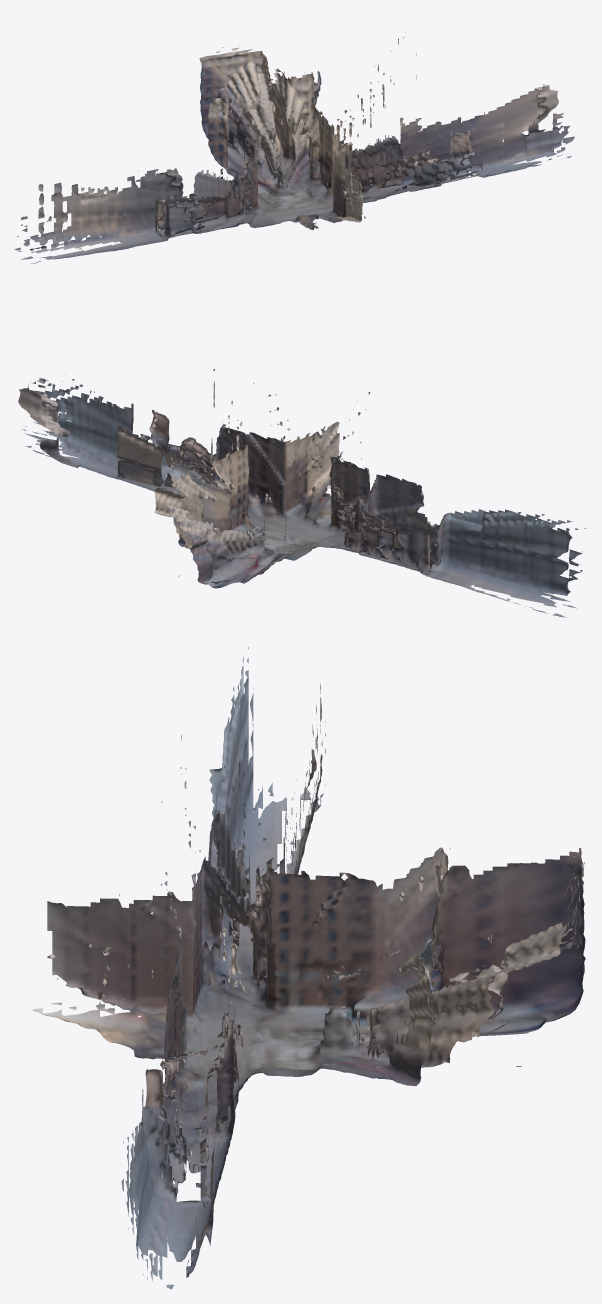
File: urbanmap2.glb
3 views of the same model, one above another, from view 1: azimuth 30°, elevation 25°; view 2: azimuth 150°, elevation 25°; view 3: azimuth 270°, elevation 25° (orthographic). The views are drawn at different scales.
Parts seen in each view (by area): view 1: world; view 2: world; view 3: world.
Part boxes in pixels (bbox=[...]): world: bbox=[14, 14, 574, 263]; world: bbox=[18, 369, 587, 617]; world: bbox=[32, 646, 585, 1289].
Size of the model in its own units: 126 by 40.71 by 58.26.
